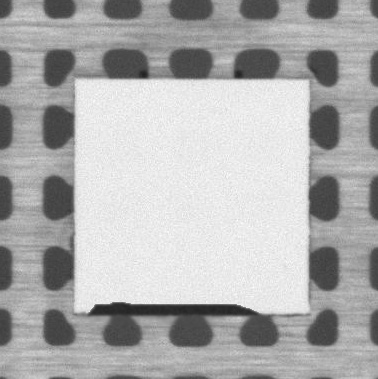DIE_BROKEN: (92, 296, 261, 318)
